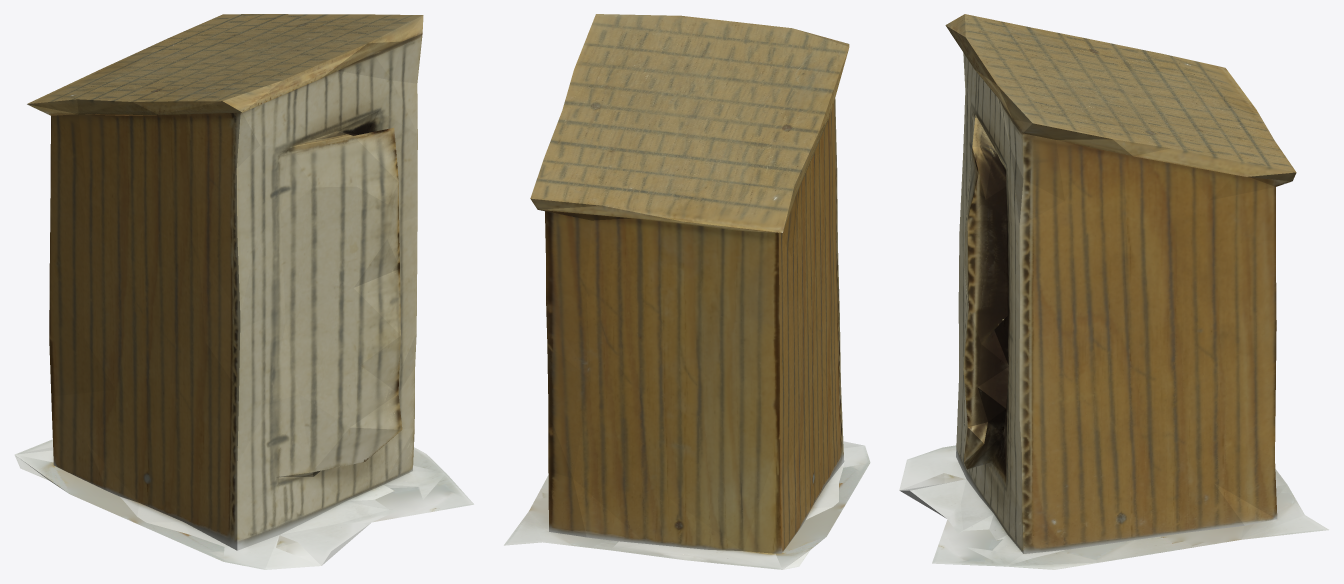
Rendered from mdl_bat_ete_35.fbx.
3 renders of one model, left to right at view 1: azimuth 30°, elevation 25°; view 2: azimuth 150°, elevation 25°; view 3: azimuth 270°, elevation 25°, orthographic. The views are drawn at different scales.
Visible parts, largest first — view 1: mdl_bat_ete_35; view 2: mdl_bat_ete_35; view 3: mdl_bat_ete_35.
Part boxes in pixels (box(x1,y1,x2,y2)): mdl_bat_ete_35: box(14, 14, 473, 569); mdl_bat_ete_35: box(504, 14, 870, 569); mdl_bat_ete_35: box(899, 14, 1328, 569).
Bounding box in the file's own units: 3.22 × 4.44 × 3.79.
Materials: 1 (1 with a texture image).
